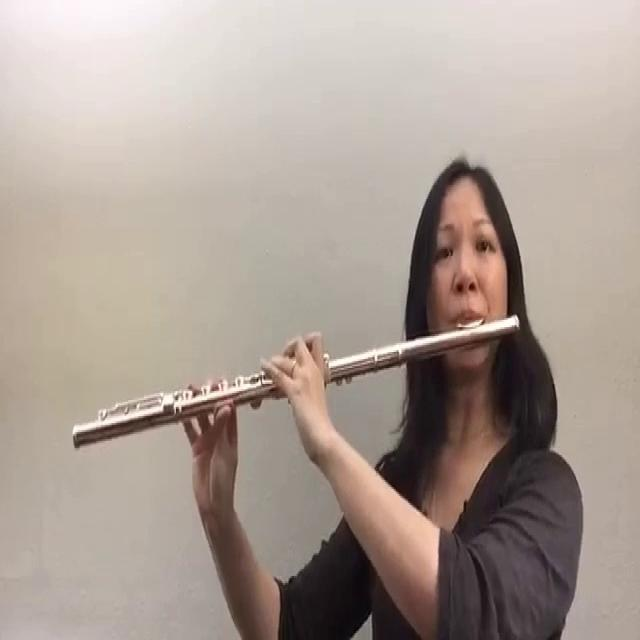Flute: (70, 300, 528, 458)
